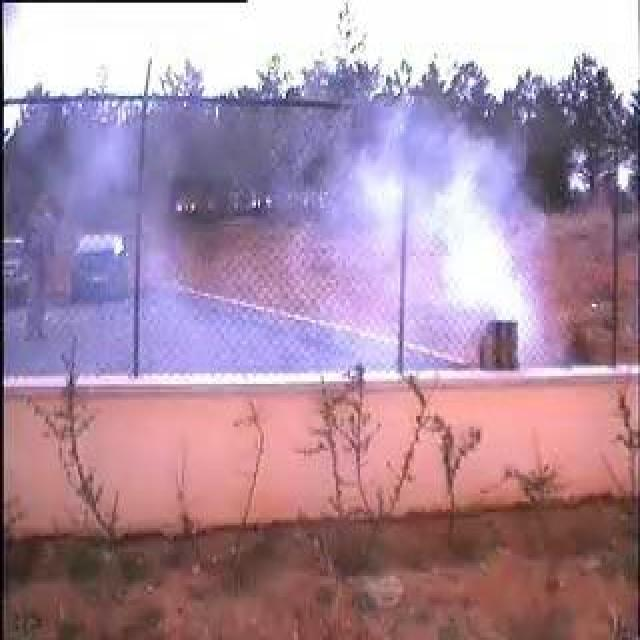Smoke: (47, 116, 531, 369)
